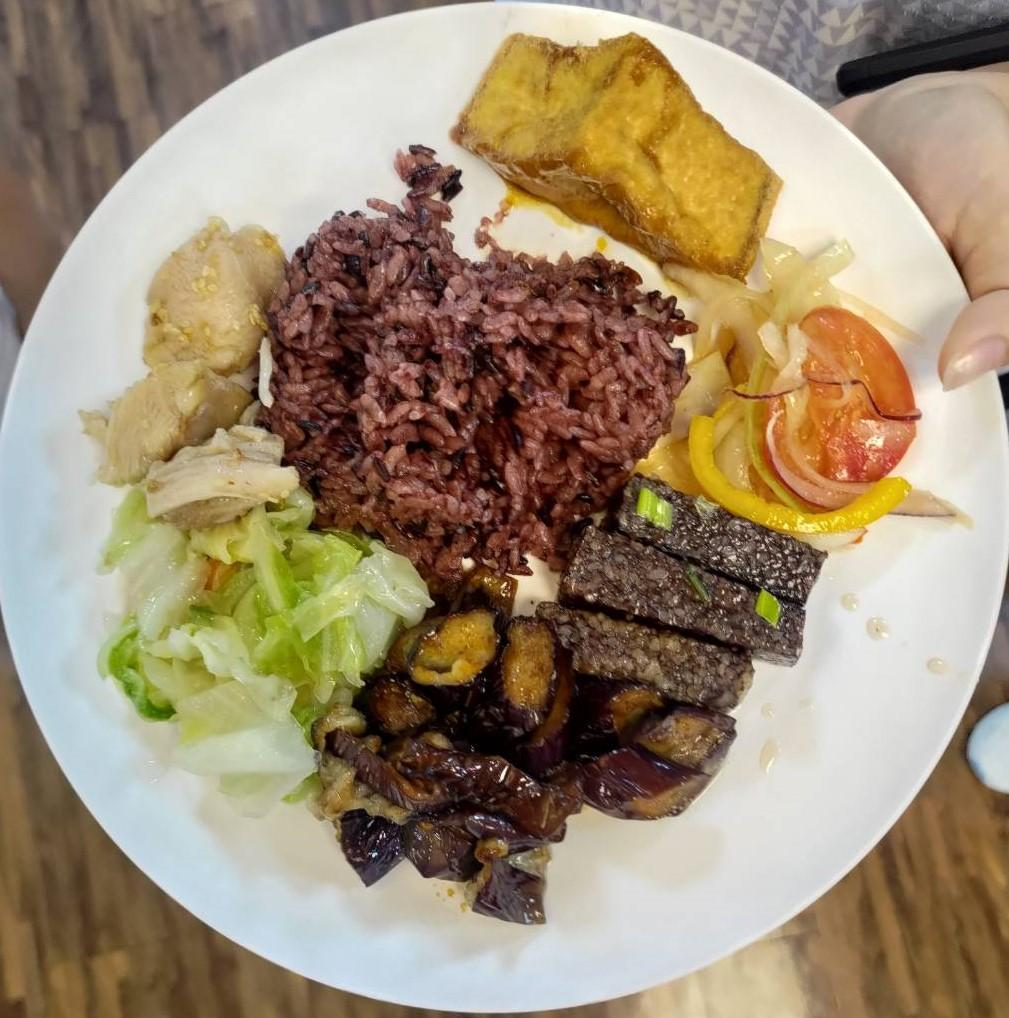big fried chicken leg: (5, 18, 1008, 994)
braised fish: (261, 173, 666, 552)
braised fish fillet: (323, 591, 736, 910), (105, 468, 420, 792), (430, 13, 802, 279), (640, 243, 934, 534), (550, 479, 823, 706)
braised pork: (66, 203, 293, 483)
